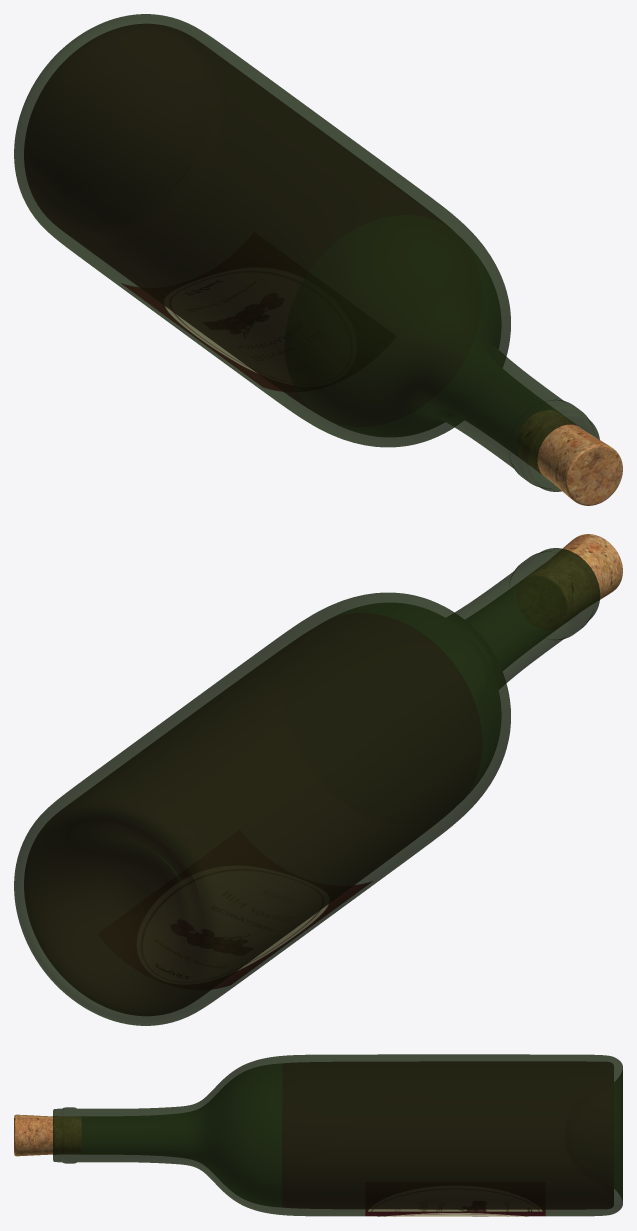
File: 10873_WineBottle_L2_v1.obj
3 views of the same model, one above another, from view 1: azimuth 30°, elevation 25°; view 2: azimuth 150°, elevation 25°; view 3: azimuth 270°, elevation 25° (orthographic). The views are drawn at different scales.
Parts seen in each view (by area): view 1: WineBottle; view 2: WineBottle; view 3: WineBottle.
Boxes of the visible parts, bbox=[...] form: WineBottle: bbox=[14, 14, 622, 505]; WineBottle: bbox=[14, 534, 622, 1025]; WineBottle: bbox=[14, 1054, 622, 1216].
Bounding box in the file's own units: 8.4 × 8.4 × 31.56.
Materials: 3 (1 with a texture image).
